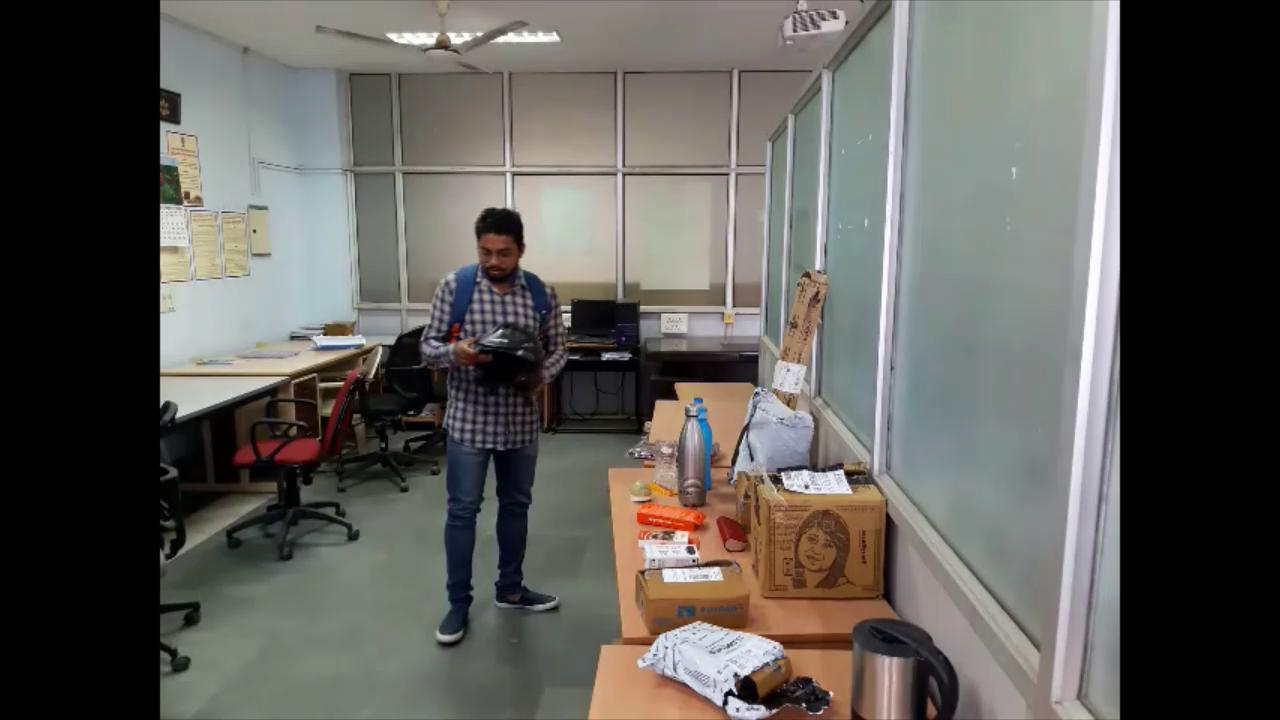Normal: (412, 201, 582, 667)
